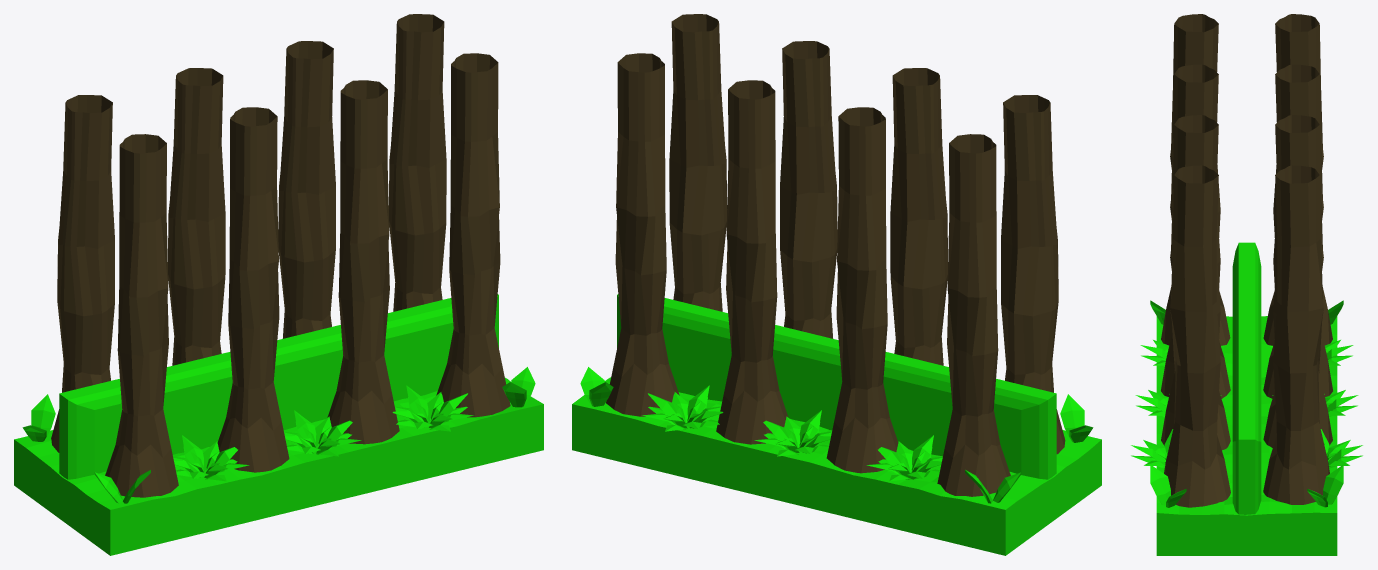
The model's file is Environment .fbx.
3 views of the same model, side by side, from view 1: azimuth 30°, elevation 25°; view 2: azimuth 150°, elevation 25°; view 3: azimuth 270°, elevation 25° (orthographic). The views are drawn at different scales.
Parts seen in each view (by area): view 1: Circle, 1, Cube.001, Plane.004, Cube; view 2: Circle, 1, Cube.001, Plane.004, Cube; view 3: Circle, 1, Cube.001, Plane.004, Cube.
Part boxes in pixels (left/top/right/bottom): Circle: left=51, top=14, right=510, bottom=497; 1: left=14, top=377, right=543, bottom=555; Cube.001: left=59, top=294, right=498, bottom=479; Plane.004: left=173, top=385, right=473, bottom=481; Cube: left=22, top=367, right=535, bottom=503; Circle: left=606, top=14, right=1065, bottom=496; 1: left=572, top=377, right=1101, bottom=555; Cube.001: left=617, top=294, right=1056, bottom=479; Plane.004: left=642, top=385, right=942, bottom=481; Cube: left=580, top=367, right=1093, bottom=503; Circle: left=1161, top=14, right=1332, bottom=507; 1: left=1156, top=316, right=1337, bottom=555; Cube.001: left=1232, top=242, right=1261, bottom=514; Plane.004: left=1131, top=340, right=1362, bottom=469; Cube: left=1150, top=300, right=1343, bottom=507.
Bounding box in the file's own units: 2515 × 5049 × 4270.
